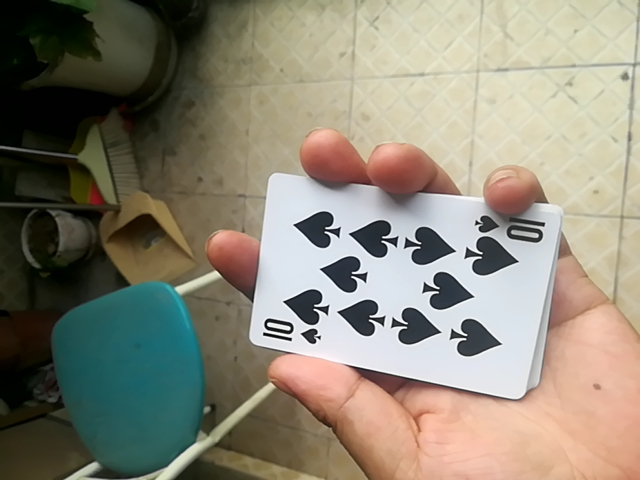ht 10: (245, 179, 558, 401)
